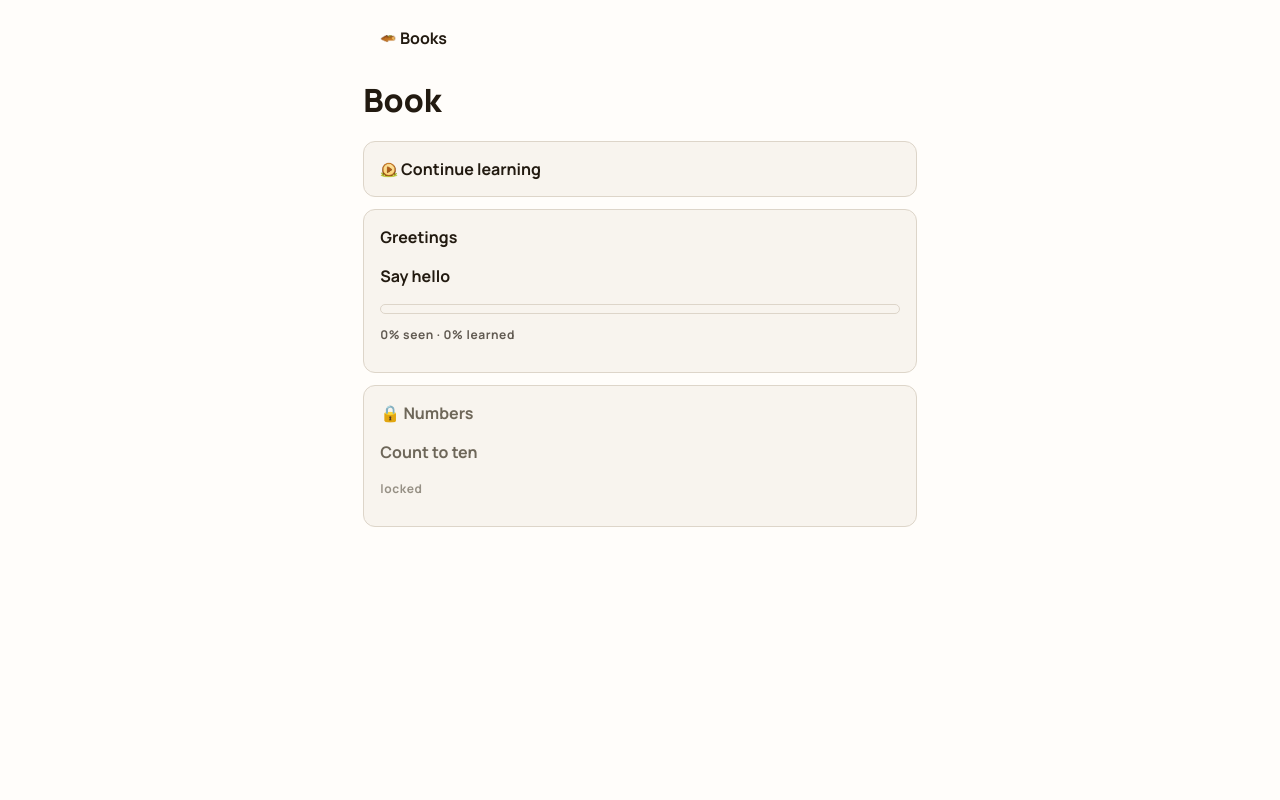
Test: BookScreen skip-ahead sheet › names the blocking lesson, not the one being opened
What coordinates should you click on to do the following:
click the button "🔒 Numbers Count to ten locked"
I would click on:
 (438, 413)
Its box is [364,386,916,526].
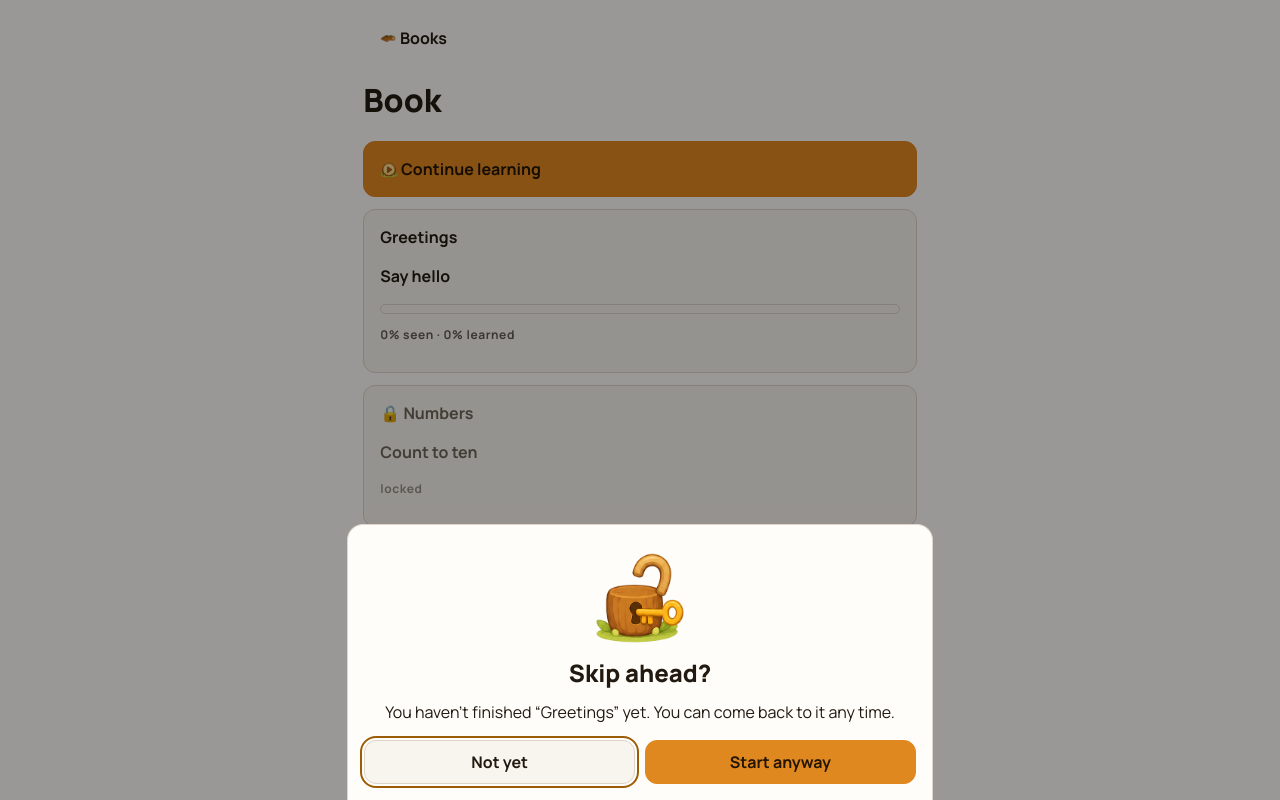
Expected: the text "You haven’t finished" does not show "Numbers"
Result: the text "You haven’t finished" shows "Greetings" at [385,701,895,723]
